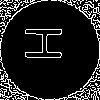H: (25, 25, 71, 62)
